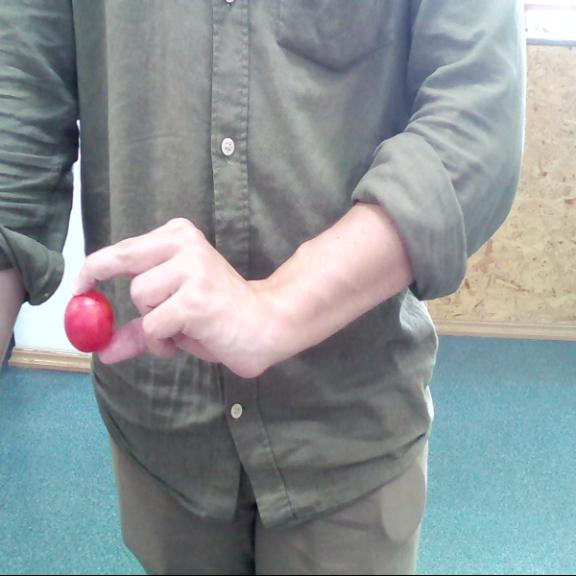ball: (66, 293, 115, 352)
